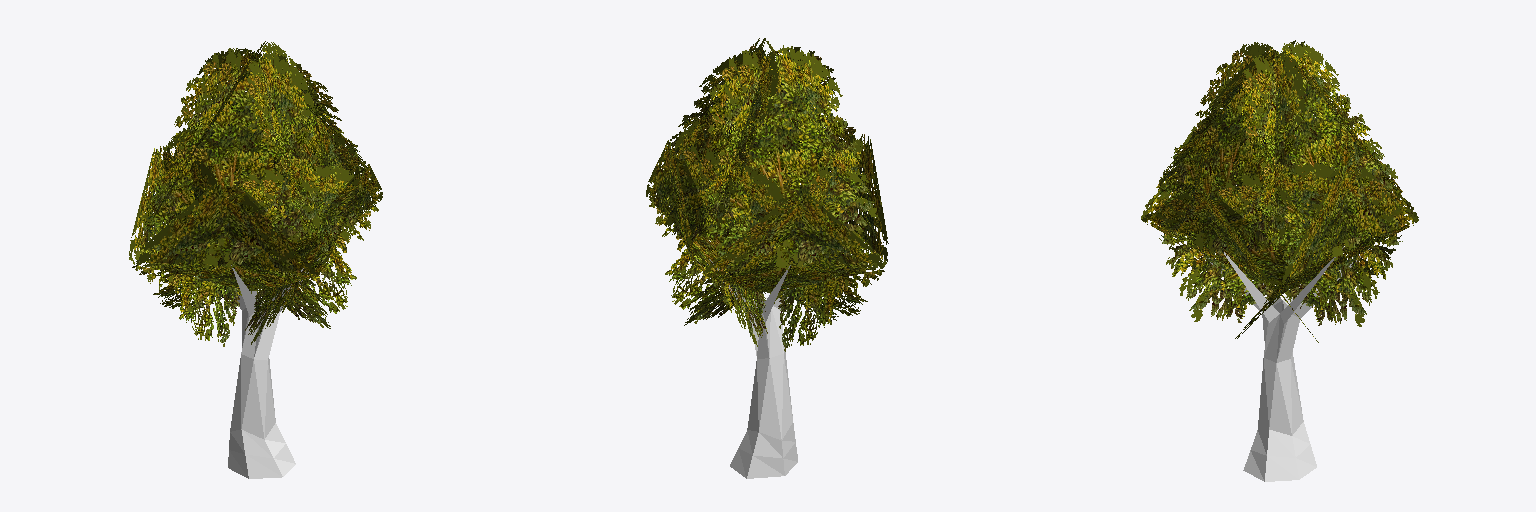
3 views of the same model, side by side, from view 1: azimuth 30°, elevation 25°; view 2: azimuth 150°, elevation 25°; view 3: azimuth 270°, elevation 25° (orthographic).
Visible parts, largest first — view 1: Geoset_1, Geoset_0; view 2: Geoset_1, Geoset_0; view 3: Geoset_1, Geoset_0.
Part boxes in pixels (x1,y1,x2,y2): Geoset_1: (129, 41, 382, 346); Geoset_0: (214, 258, 319, 478); Geoset_1: (646, 38, 888, 351); Geoset_0: (707, 259, 798, 478); Geoset_1: (1141, 40, 1418, 342); Geoset_0: (1199, 247, 1369, 481).
Size of the model in its own units: 52.67 by 82.9 by 50.97.
2 materials, 1 textured.